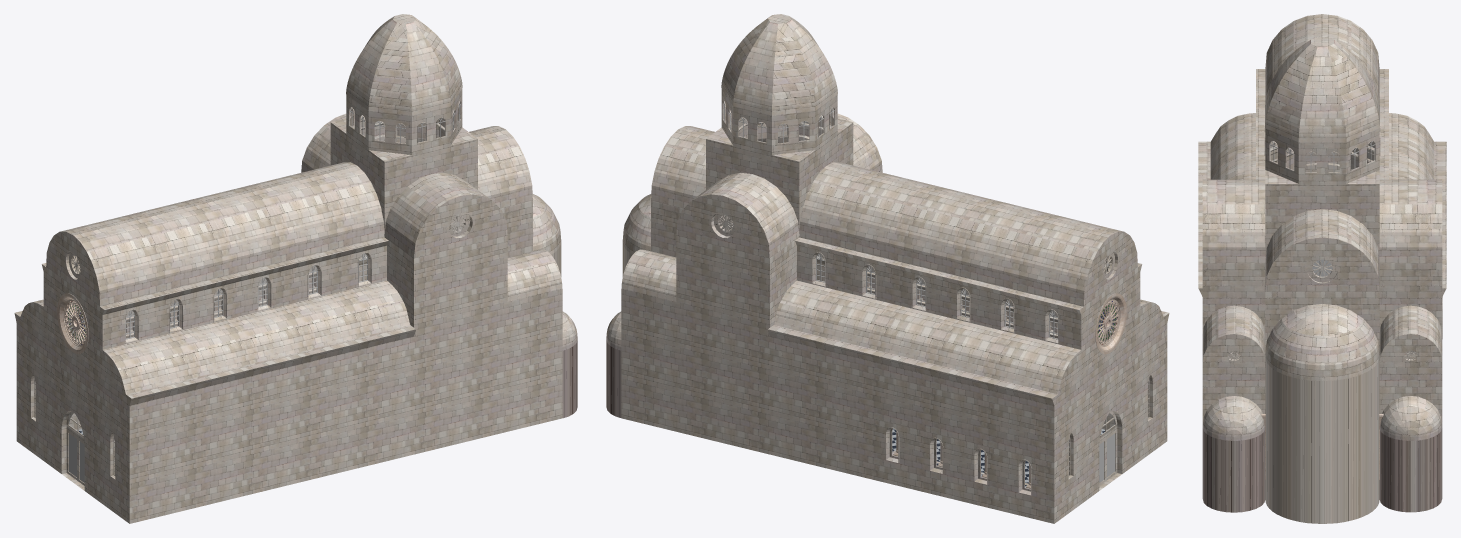
Rendered from sibenik.obj.
The picture shows the model from 3 angles, left to right: view 1: azimuth 30°, elevation 25°; view 2: azimuth 150°, elevation 25°; view 3: azimuth 270°, elevation 25°; orthographic projection. The views are drawn at different scales.
Parts seen in each view (by area): view 1: Object__0; view 2: Object__0; view 3: Object__0.
Boxes of the visible parts, x1,y1,x2,y2 form: Object__0: (14, 14, 577, 523); Object__0: (606, 14, 1169, 523); Object__0: (1198, 14, 1446, 523).
Bounding box in the file's own units: 40.28 × 30.61 × 16.99.
15 materials, 8 textured.
